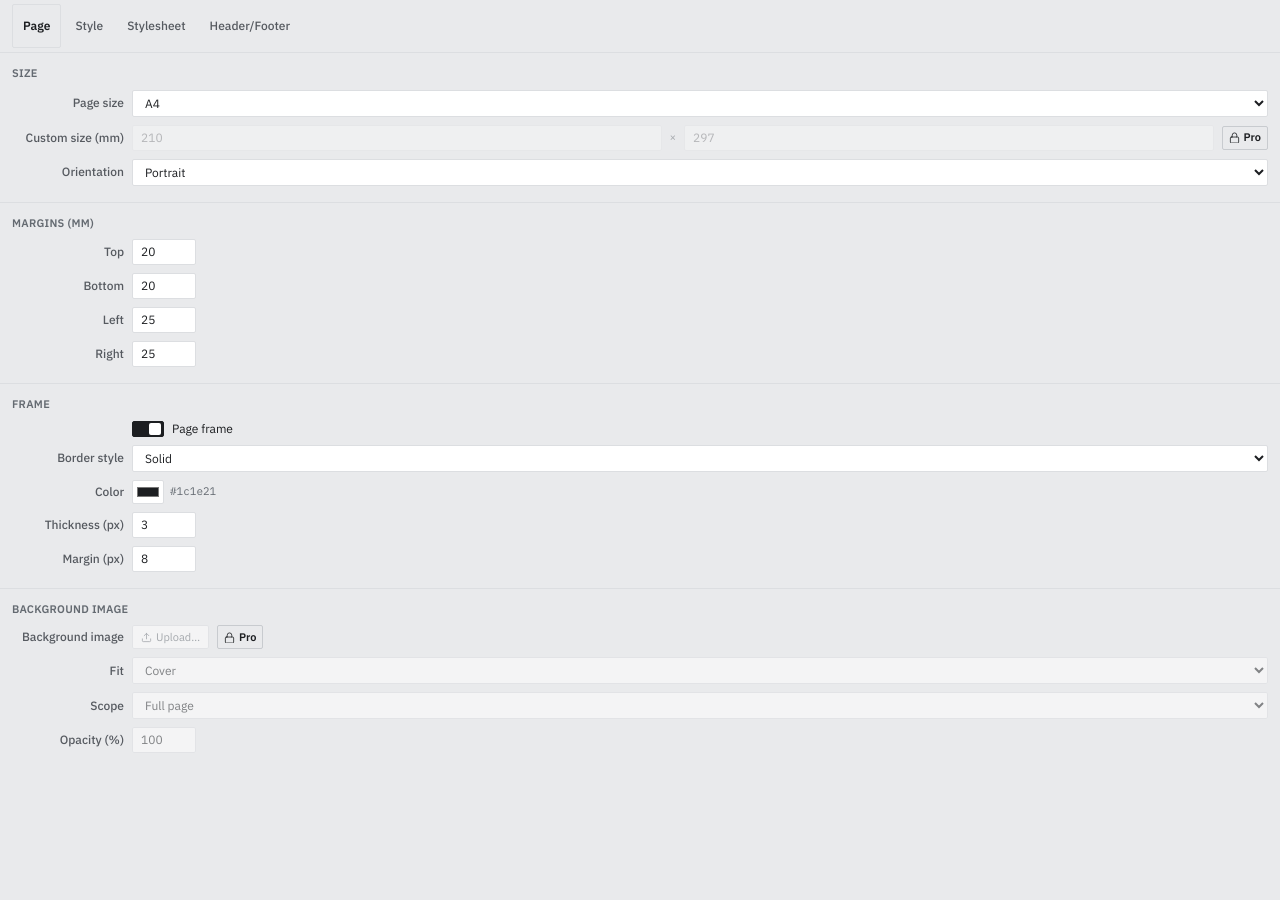
Test case: Style tab › edits colors through the native picker
This screenshot has width=1280, height=900.
Click the tab "Style" at (89, 26), box x1=65 y1=4 x2=113 y2=48
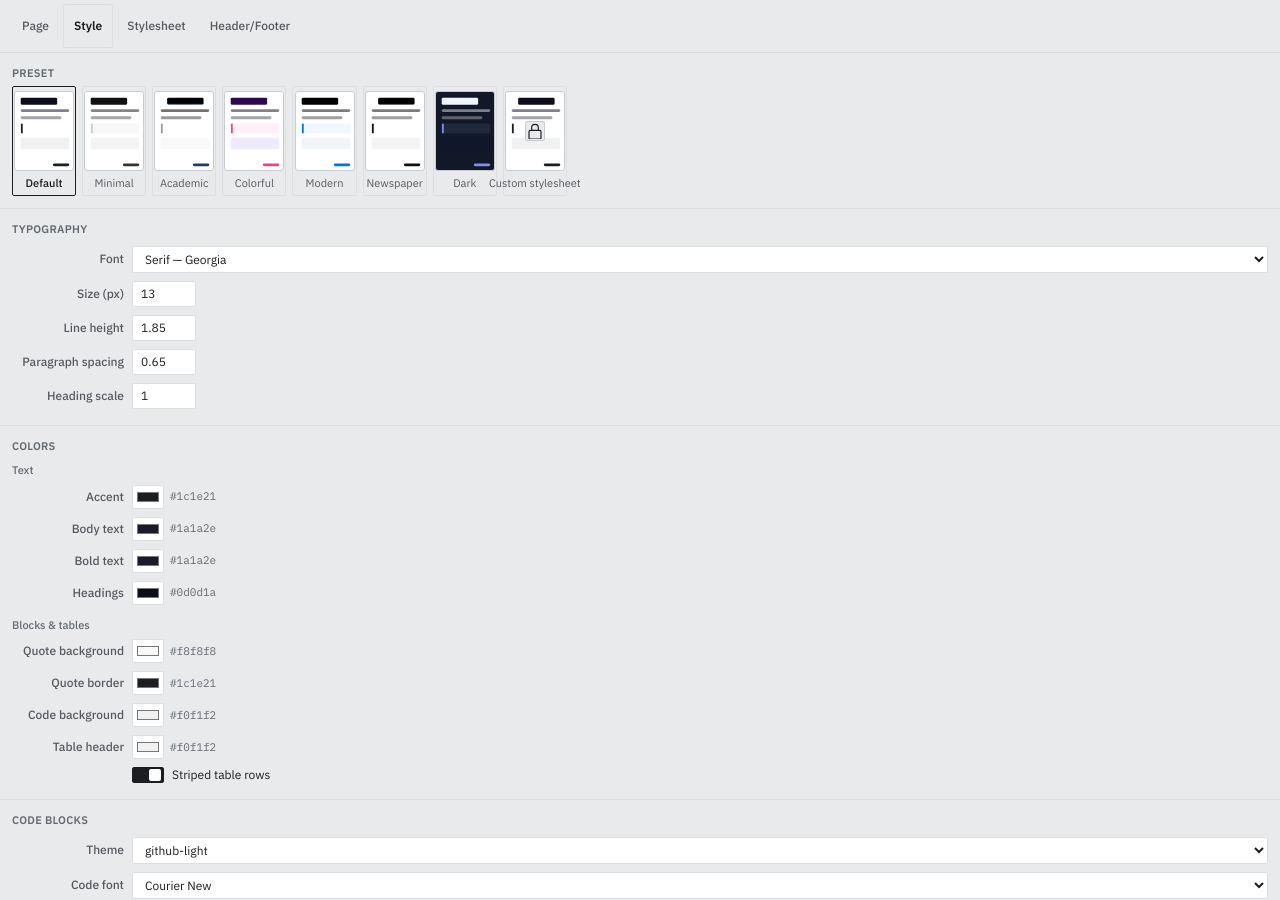
Type "#e84393" into the colour field named "Accent color" at (148, 496), box x1=132 y1=484 x2=164 y2=508
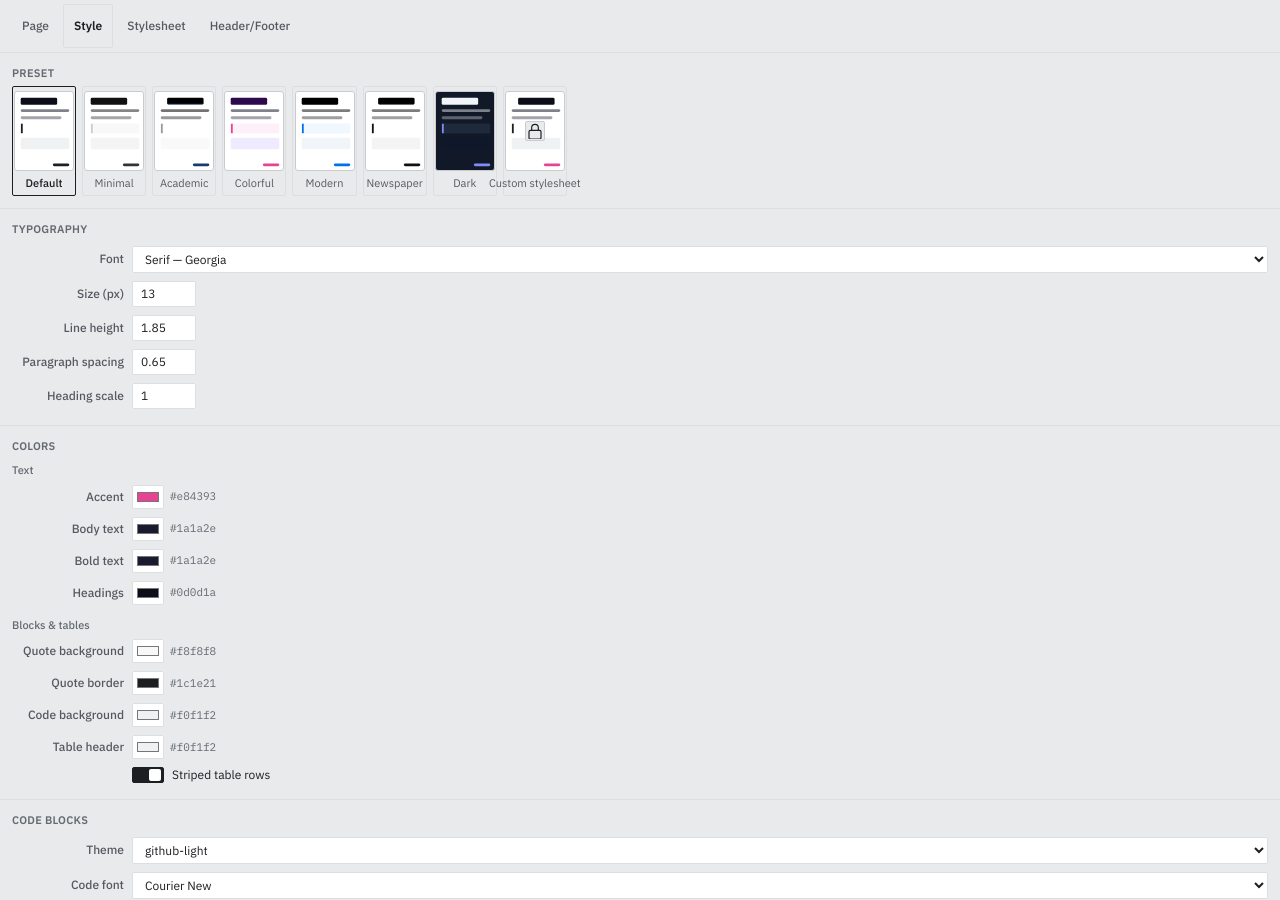
Check: the text "#e84393" is shown, box x1=170 y1=488 x2=216 y2=505
